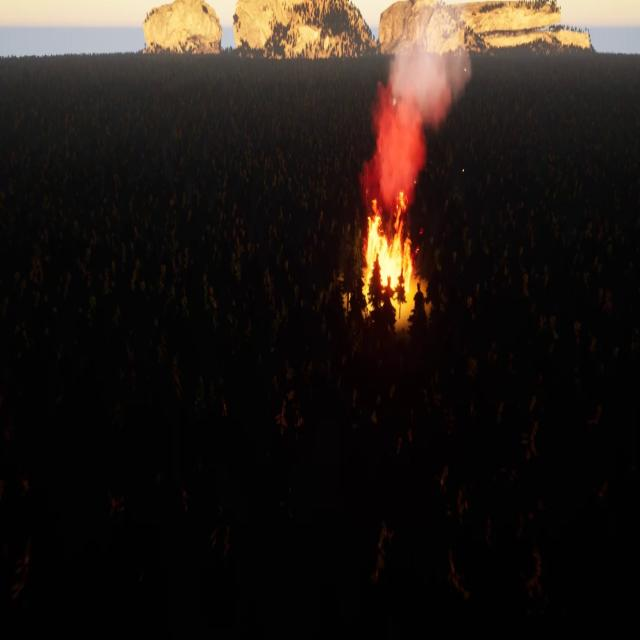fire: (362, 206, 418, 312)
smoke: (363, 7, 471, 214)
